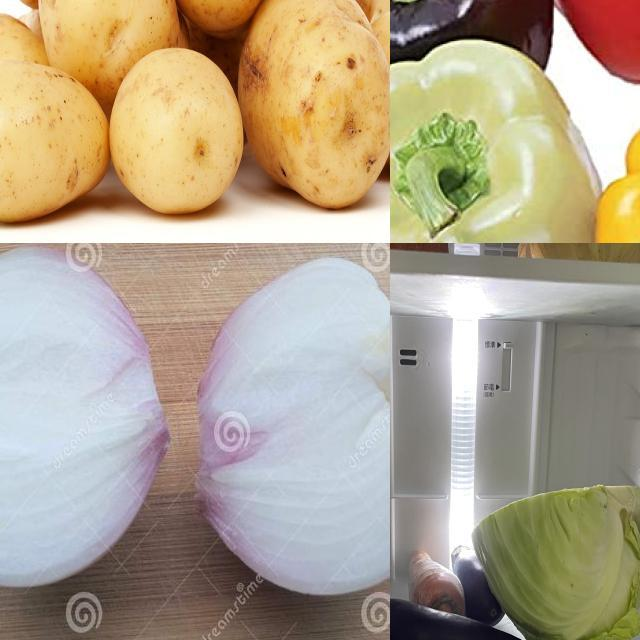bell_pepper: (391, 46, 612, 244), (391, 1, 556, 99)
cabbage: (473, 481, 640, 640)
carrot: (409, 548, 466, 621)
eggplant: (391, 596, 555, 640)
onion: (202, 258, 391, 598), (1, 253, 171, 591), (520, 244, 640, 270)
potato: (243, 1, 391, 212), (113, 47, 243, 218), (1, 63, 109, 222), (41, 1, 176, 105), (1, 14, 50, 176), (286, 1, 381, 34)
